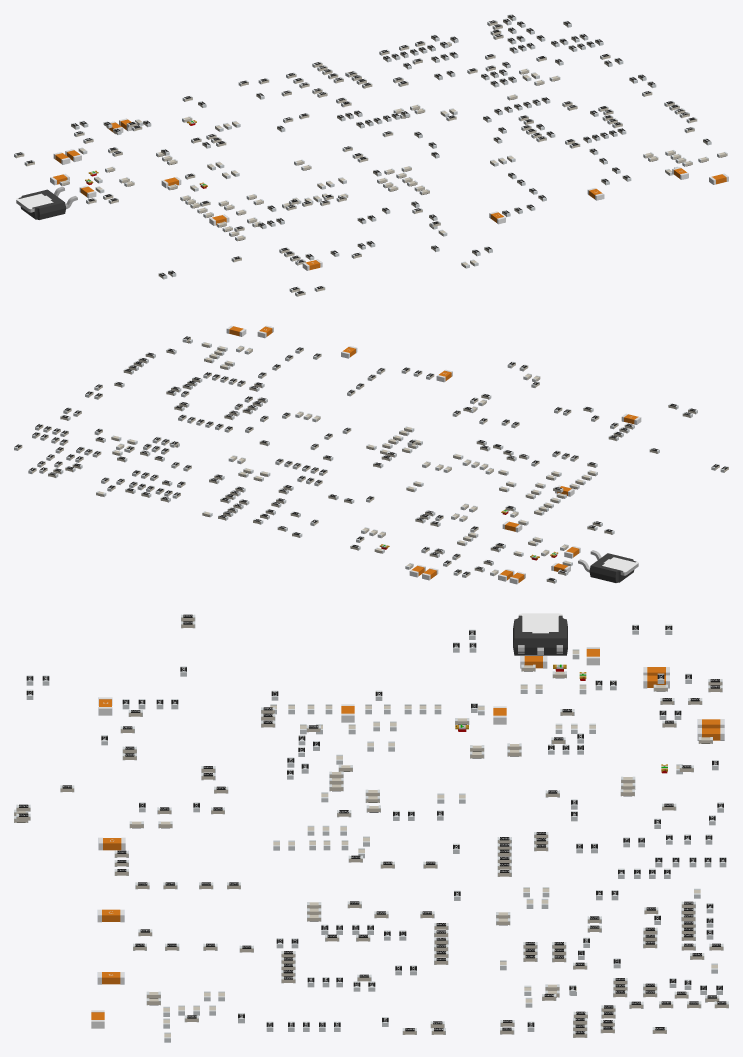
The picture shows the model from 3 angles, top to bottom: view 1: azimuth 30°, elevation 25°; view 2: azimuth 150°, elevation 25°; view 3: azimuth 270°, elevation 25°; orthographic projection. The views are drawn at different scales.
Parts seen in each view (by area): view 1: U10; view 2: U10; view 3: U10.
Part boxes in pixels (<box>): U10: <box>16,186,77,219</box>; U10: <box>578,550,638,582</box>; U10: <box>513,613,567,655</box>.
Size of the model in its own units: 0.1223 by 0.00458 by 0.085.
